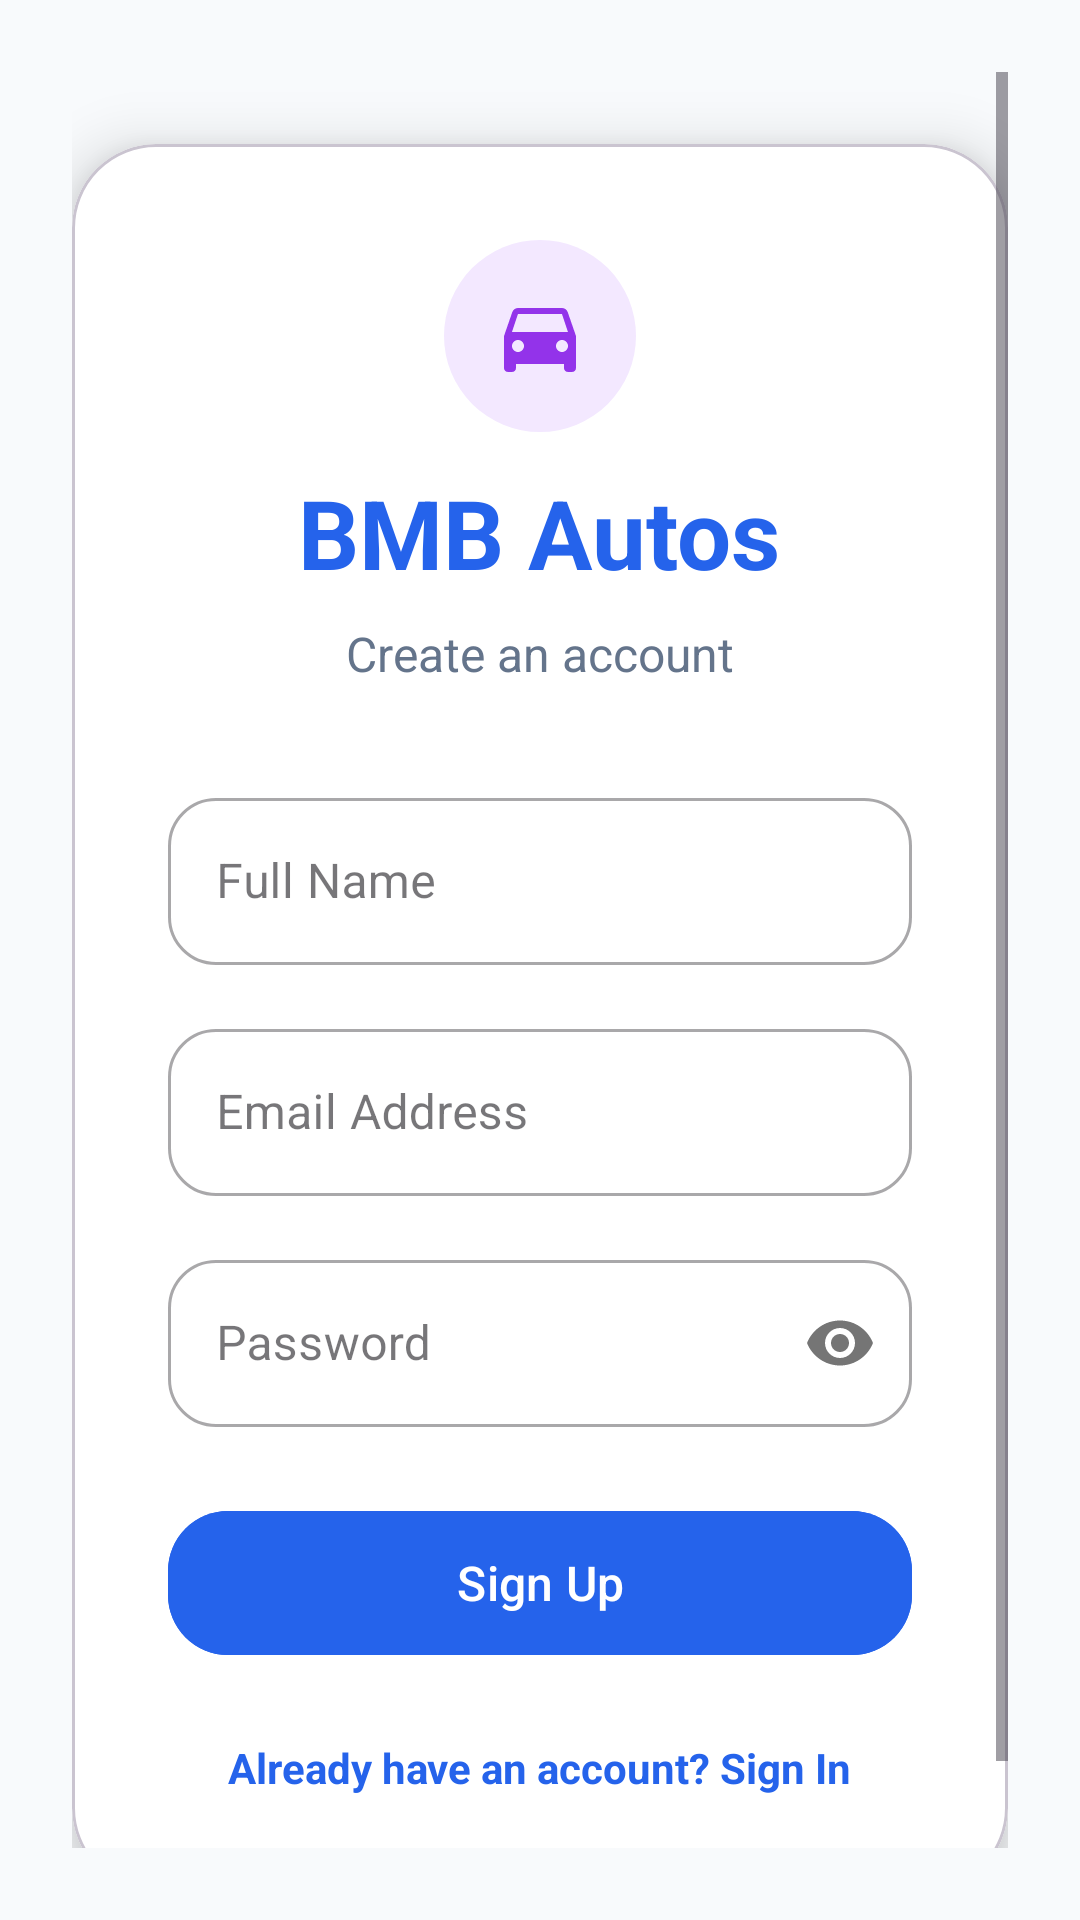

Named icons in this screenshot (1080×1920) and their centers, [x,y]:
car: [540,340]
